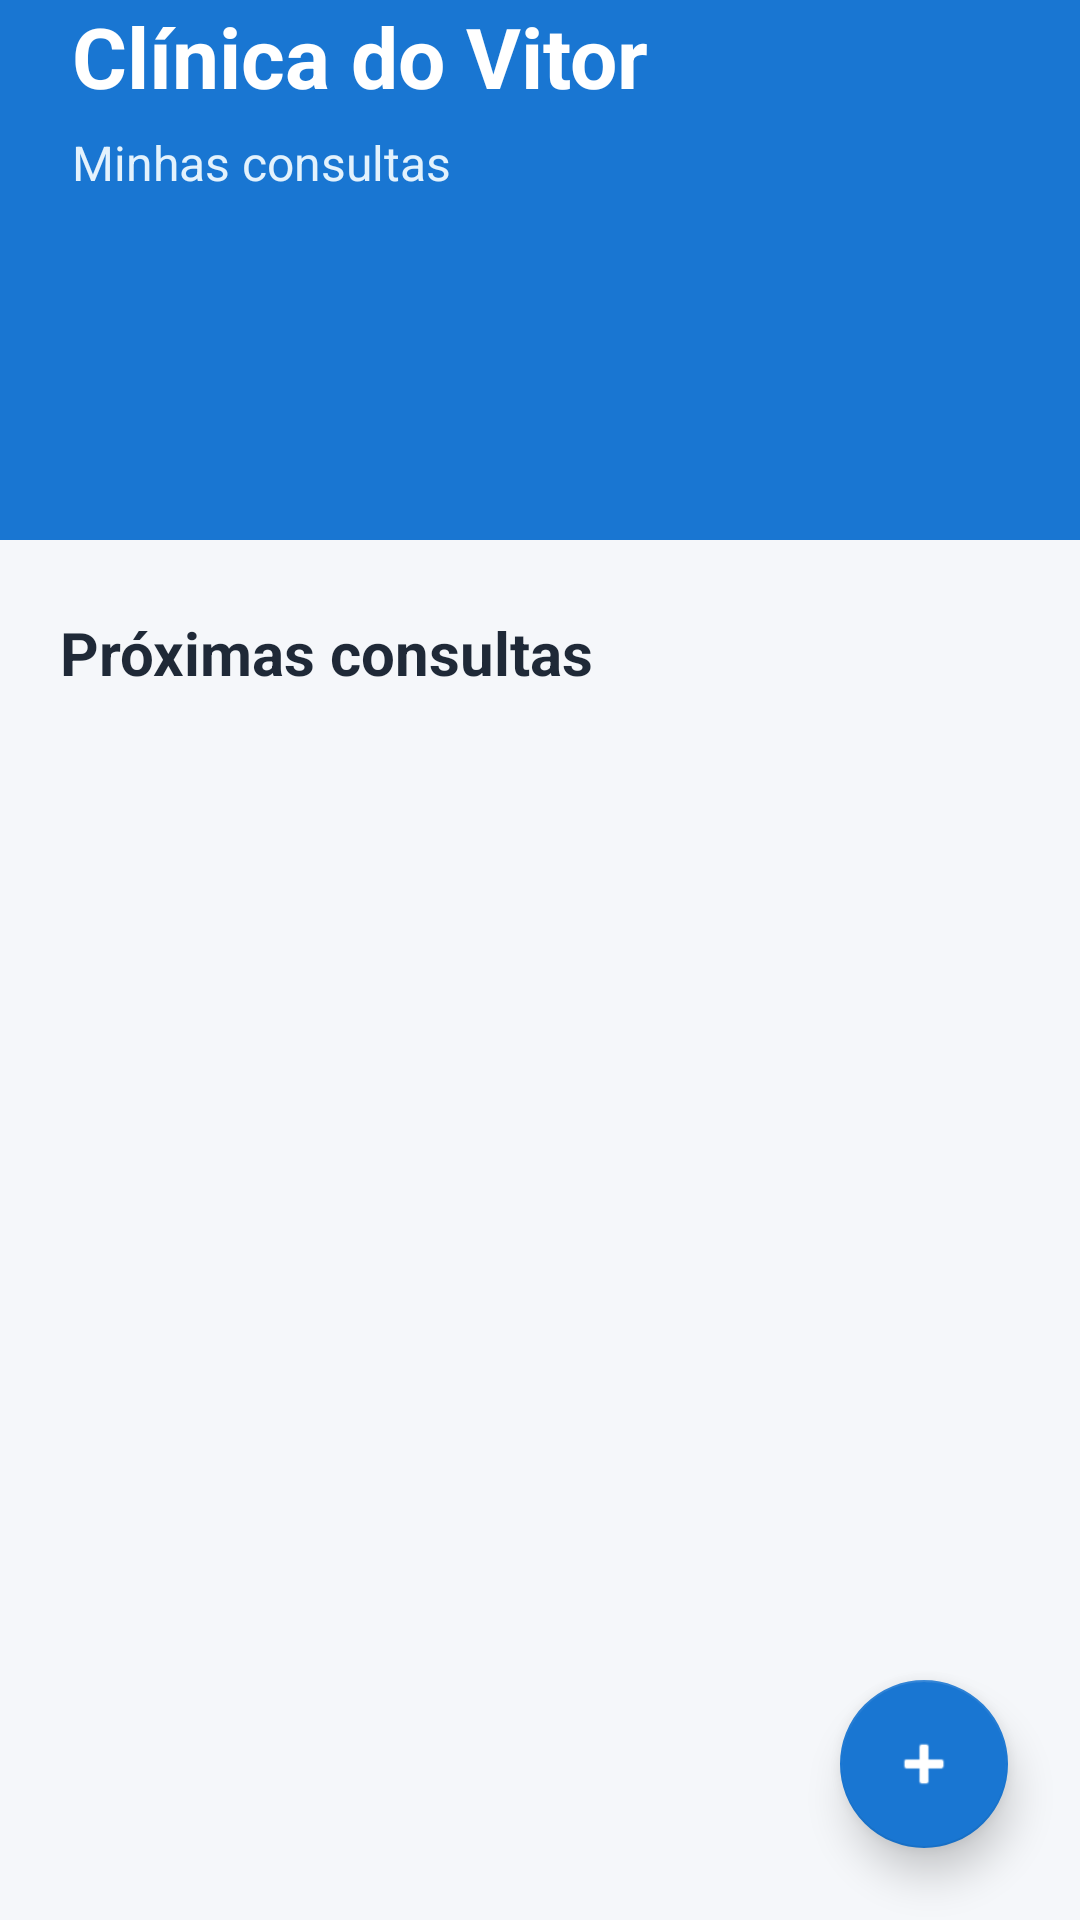

Where to tap for icons on this 1080*1920 app screen, as [x,y]:
Adicionar consulta: [924,1764]
